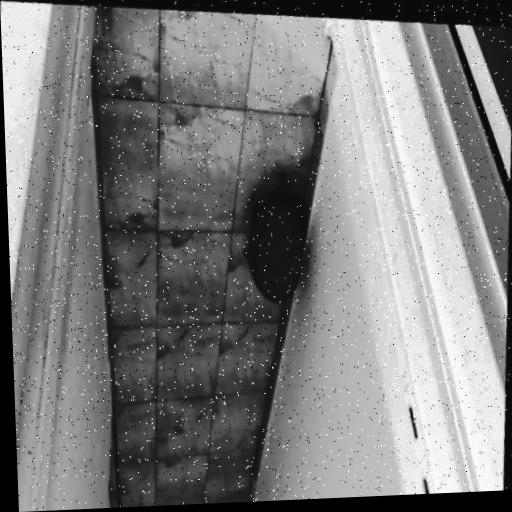balloon: (240, 175, 313, 309)
